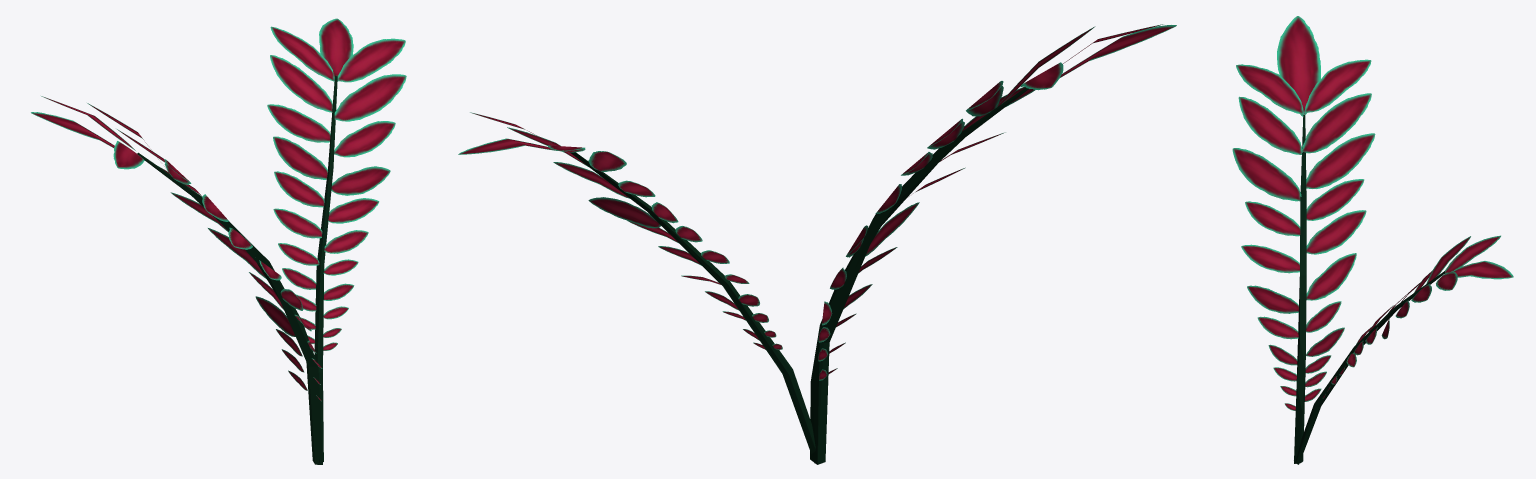
Rendered from redFern.obj.
3 views of the same model, side by side, from view 1: azimuth 30°, elevation 25°; view 2: azimuth 150°, elevation 25°; view 3: azimuth 270°, elevation 25° (orthographic). The views are drawn at different scales.
Visible parts, largest first — view 1: Cube, Cube.001, Plane.027_Plane.031, Plane.025_Plane.029, Plane.028_Plane.032, Plane.024_Plane.028, Plane.030_Plane.034, Plane.029_Plane.033, Plane.026_Plane.030, Plane.032_Plane.036, Plane.031_Plane.035, Plane.034_Plane.038 (+9 smaller); view 2: Cube, Cube.001, Plane.031_Plane.035, Plane; view 3: Plane, Cube, Plane.005_Plane.010, Plane.007_Plane.011, Plane.006, Plane.004, Plane.002, Plane.003, Plane.011_Plane.015, Plane.008_Plane.012, Cube.001, Plane.012_Plane.016 (+11 smaller).
Boxes of the visible parts, left/top/right/bottom form: Cube: left=137, top=152, right=322, bottom=464; Cube.001: left=314, top=75, right=337, bottom=462; Plane.027_Plane.031: left=334, top=74, right=406, bottom=121; Plane.025_Plane.029: left=337, top=38, right=405, bottom=82; Plane.028_Plane.032: left=270, top=55, right=332, bottom=112; Plane.024_Plane.028: left=319, top=18, right=353, bottom=78; Plane.030_Plane.034: left=267, top=104, right=330, bottom=142; Plane.029_Plane.033: left=334, top=121, right=395, bottom=157; Plane.026_Plane.030: left=270, top=26, right=334, bottom=81; Plane.032_Plane.036: left=273, top=136, right=327, bottom=179; Plane.031_Plane.035: left=331, top=166, right=390, bottom=195; Plane.034_Plane.038: left=274, top=171, right=324, bottom=207; Cube: left=810, top=87, right=1028, bottom=464; Cube.001: left=570, top=152, right=815, bottom=463; Plane.031_Plane.035: left=588, top=197, right=660, bottom=228; Plane: left=1059, top=25, right=1176, bottom=78; Plane: left=1277, top=16, right=1320, bottom=116; Cube: left=1294, top=115, right=1306, bottom=463; Plane.005_Plane.010: left=1301, top=93, right=1371, bottom=153; Plane.007_Plane.011: left=1232, top=148, right=1301, bottom=201; Plane.006: left=1306, top=133, right=1375, bottom=188; Plane.004: left=1238, top=96, right=1301, bottom=154; Plane.002: left=1304, top=59, right=1371, bottom=112; Plane.003: left=1236, top=64, right=1303, bottom=114; Plane.011_Plane.015: left=1306, top=210, right=1366, bottom=254; Plane.008_Plane.012: left=1306, top=179, right=1364, bottom=220; Cube.001: left=1295, top=271, right=1444, bottom=464; Plane.012_Plane.016: left=1306, top=253, right=1356, bottom=300.
Size of the model in its own units: 4.7 by 3.98 by 3.2.
